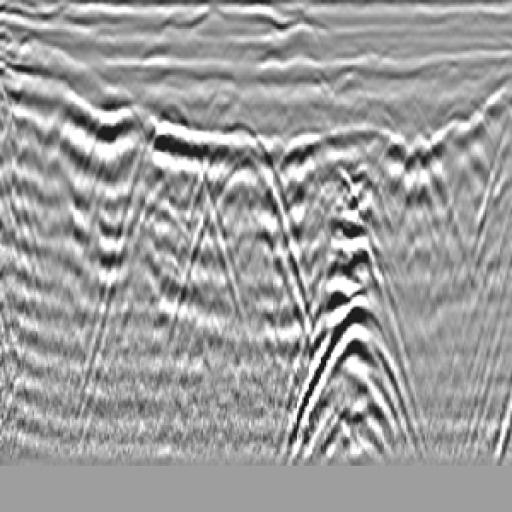metalic: (174, 108, 322, 315)
